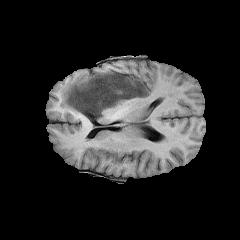glioma: (60, 72, 151, 129)
